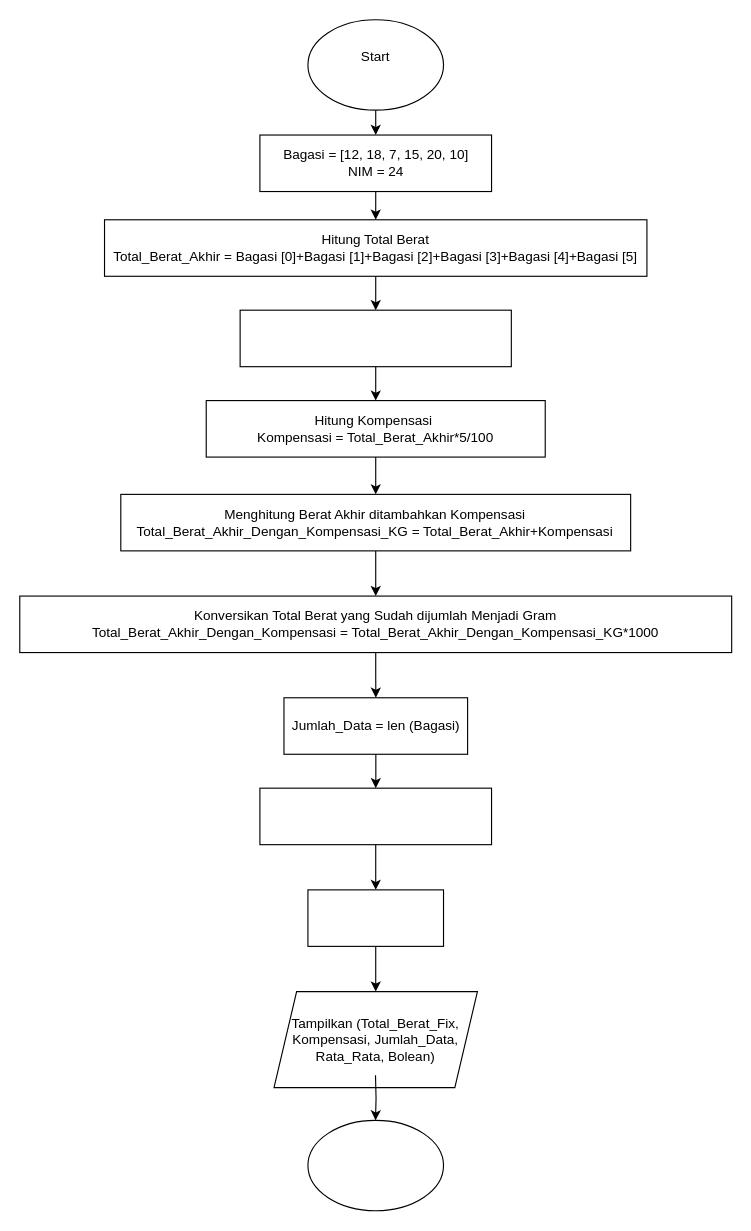
This 751x1231 diagram has some shape labels left out. The shapes that lost their labels are listed below. From the top down, each one's box as (x1, y1, x2, y2) in pixels, then its label:
(239, 309, 511, 367): Mengubah Kilogram ke Gram Total_Berat_Fix = Total_Berat_Akhir*1000
(259, 787, 492, 845): Hitung Rata Ratanya Rata_Rata = Total_Berat_Akhir/Jumlah_Data
(307, 889, 444, 946): Bolean = NIM < Rata_Rata
(307, 1119, 444, 1211): End
